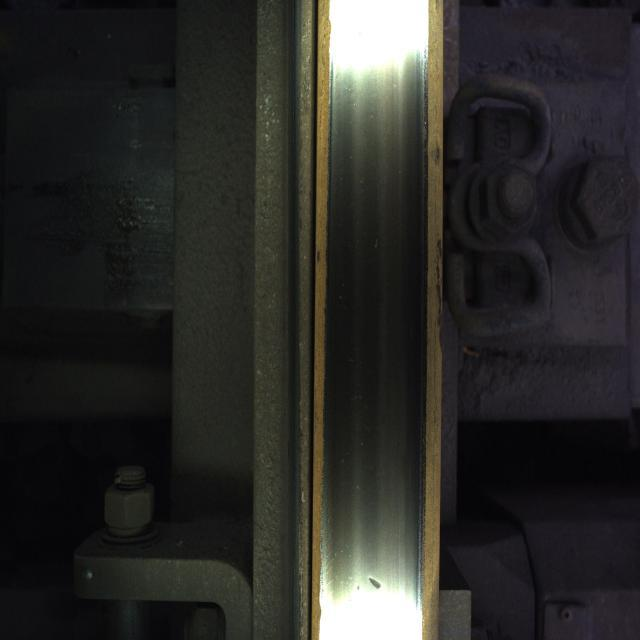crack: (346, 539, 412, 620)
